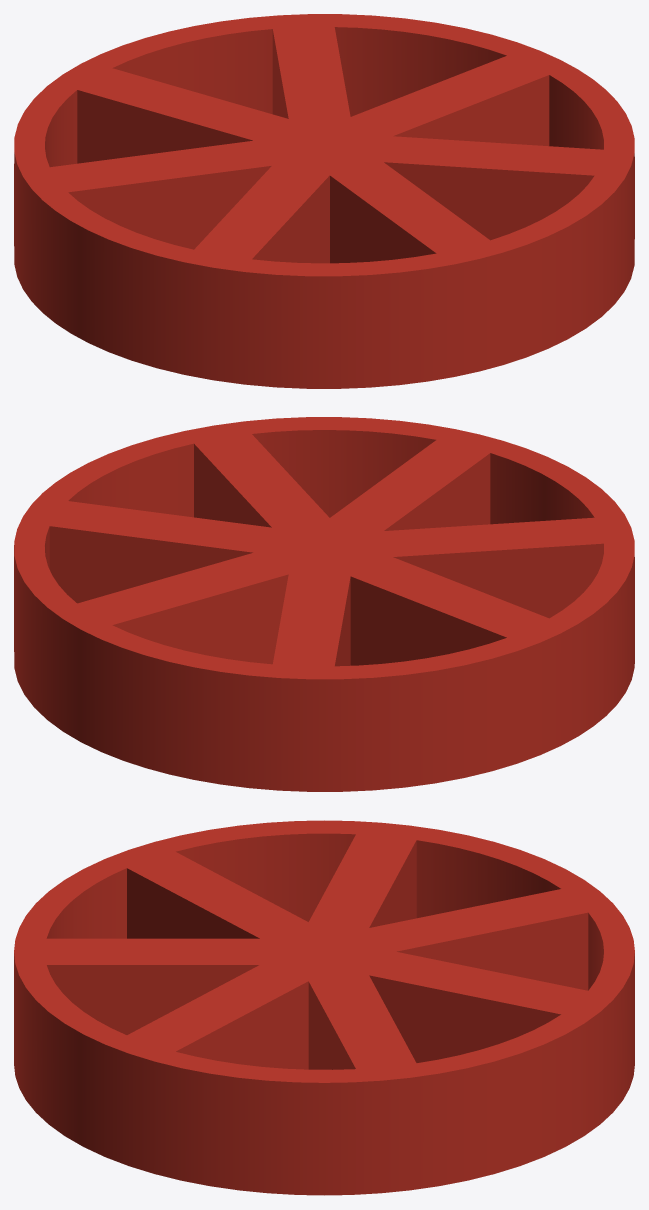
Rendered from Koło.fbx.
3 renders of one model, top to bottom at view 1: azimuth 30°, elevation 25°; view 2: azimuth 150°, elevation 25°; view 3: azimuth 270°, elevation 25°, orthographic.
Parts seen in each view (by area): view 1: Body1; view 2: Body1; view 3: Body1.
Boxes of the visible parts, bbox=[...] form: Body1: bbox=[14, 14, 634, 388]; Body1: bbox=[14, 417, 634, 791]; Body1: bbox=[14, 820, 634, 1195].
Bounding box in the file's own units: 100 × 20 × 100.
